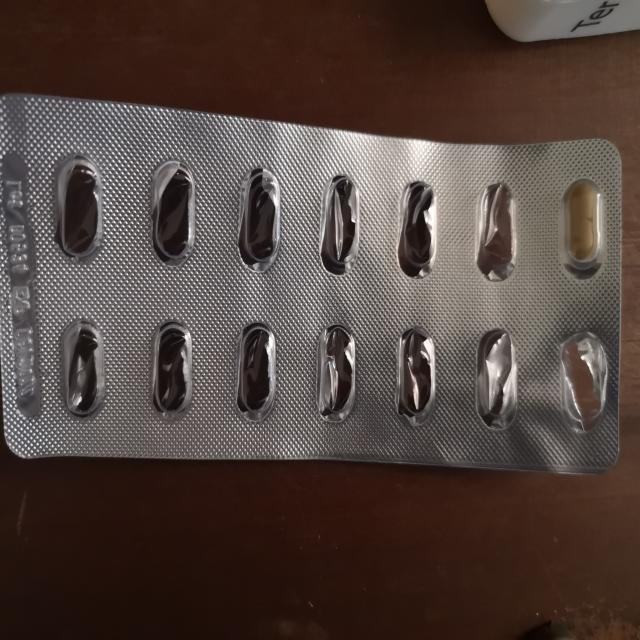Empty: (44, 145, 110, 268), (142, 148, 202, 270), (230, 158, 288, 279), (52, 314, 113, 428), (468, 322, 528, 434), (143, 314, 201, 427), (230, 315, 287, 428), (468, 175, 526, 284), (390, 171, 444, 285), (387, 322, 441, 434), (311, 317, 364, 430), (312, 166, 365, 278), (556, 327, 610, 435)
Pill: (557, 170, 608, 281)
